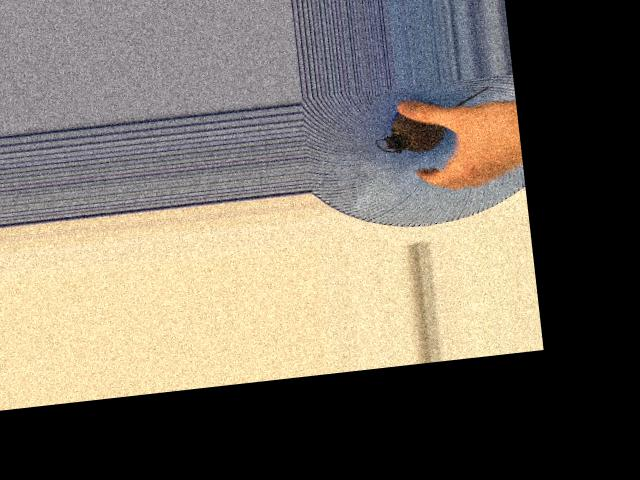beet: (370, 85, 495, 156)
